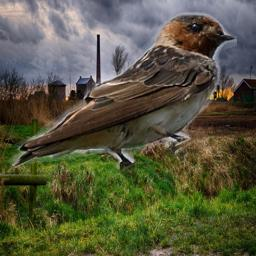Swallow: (7, 10, 237, 177)
